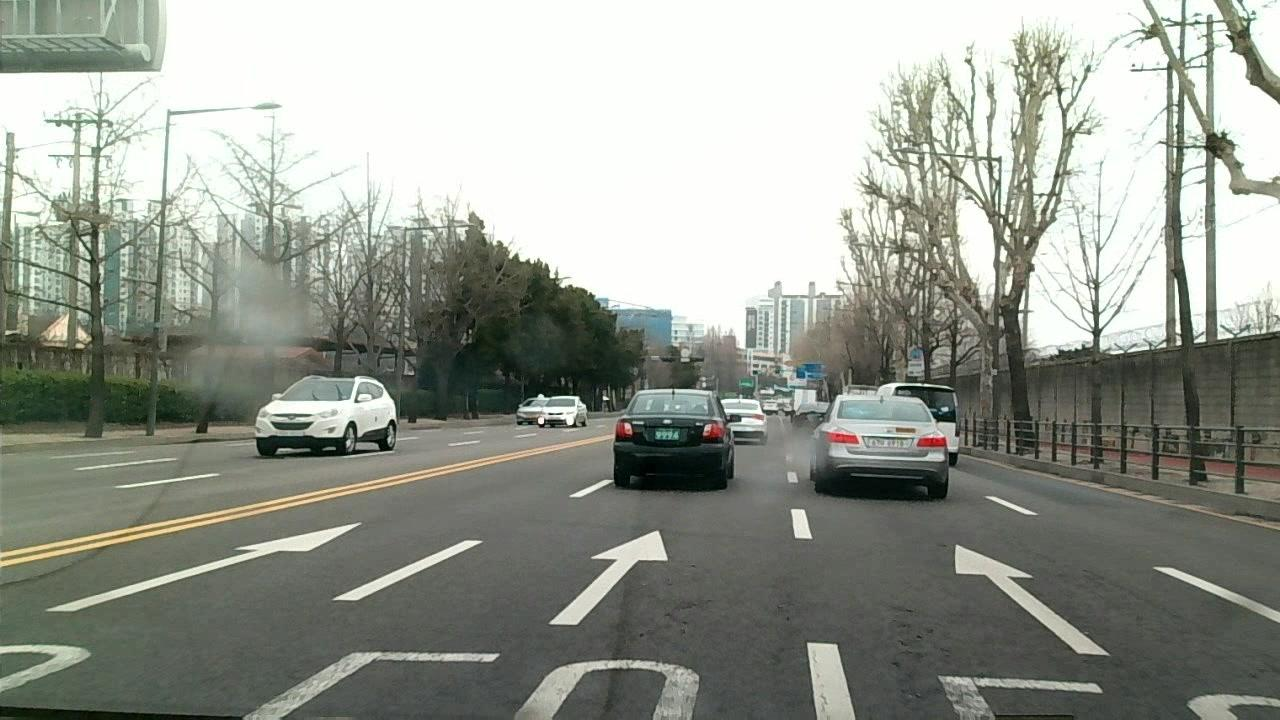banner: (879, 597, 937, 720)
